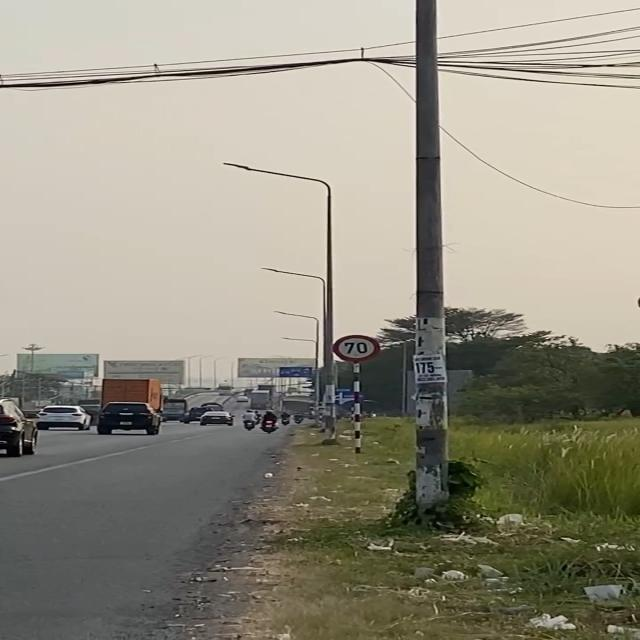127-toc-do-toi-da-70: (330, 334, 382, 362)
